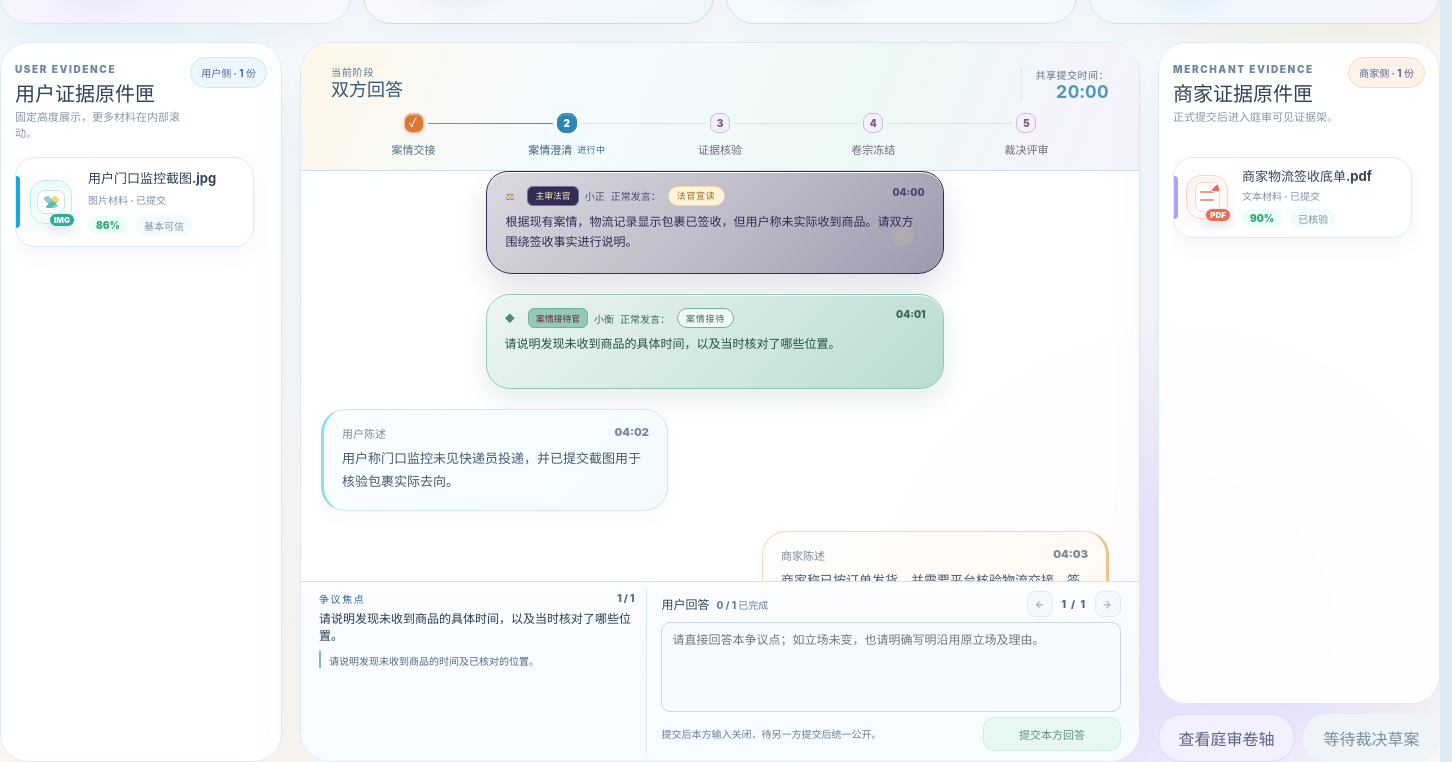
Scenario: HearingCourtView › updates the optimistic submission state by participant identity
(page scrolled)
Type "My complete statement for every shared dispute issue." into the text box with placeholder "请直接回答本争议点；如立场未变，也请明确写明沿用原立场及理由。". click: (891, 667)
box: [662,622,1121,712]
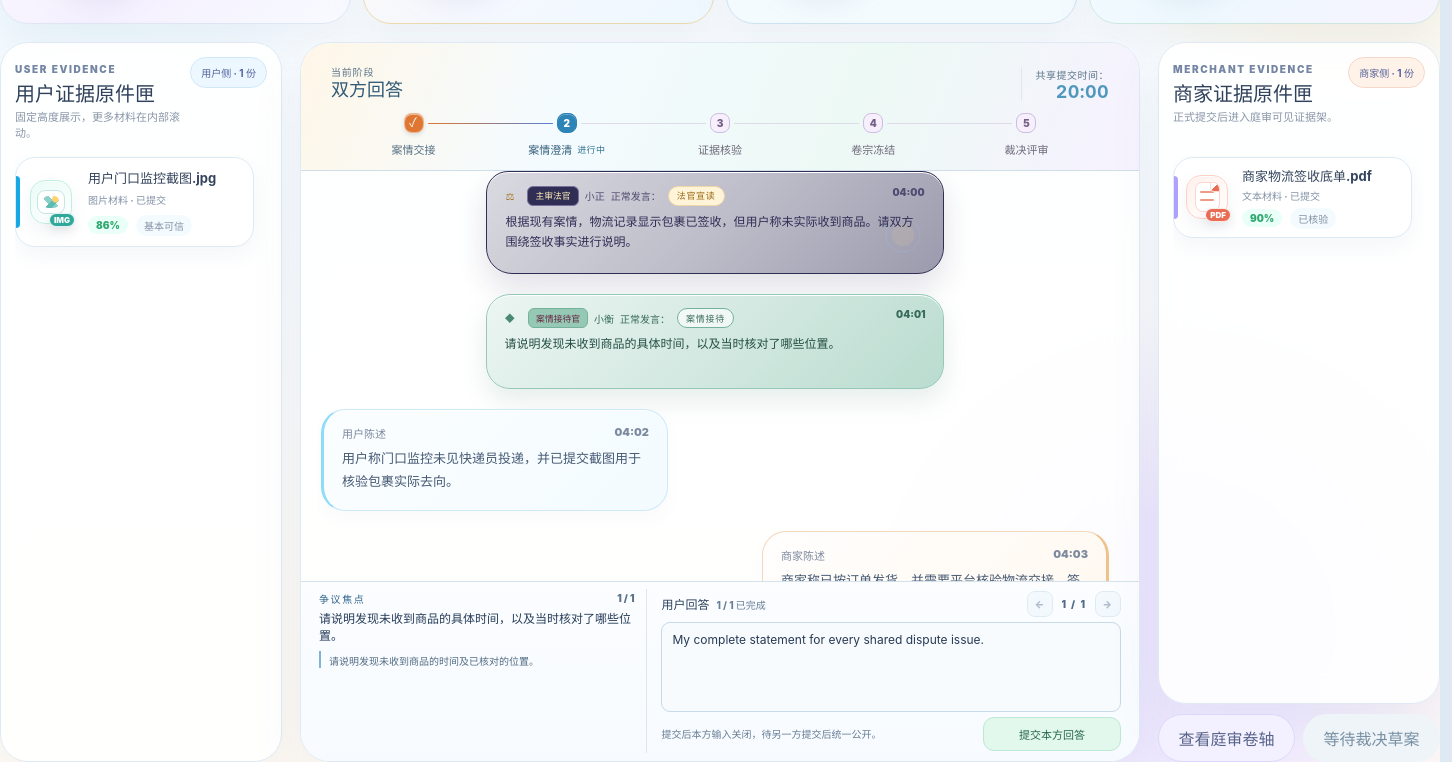
Click the button "提交本方回答". click: (1052, 734)
box: [983,717,1121,751]
(page scrolled)
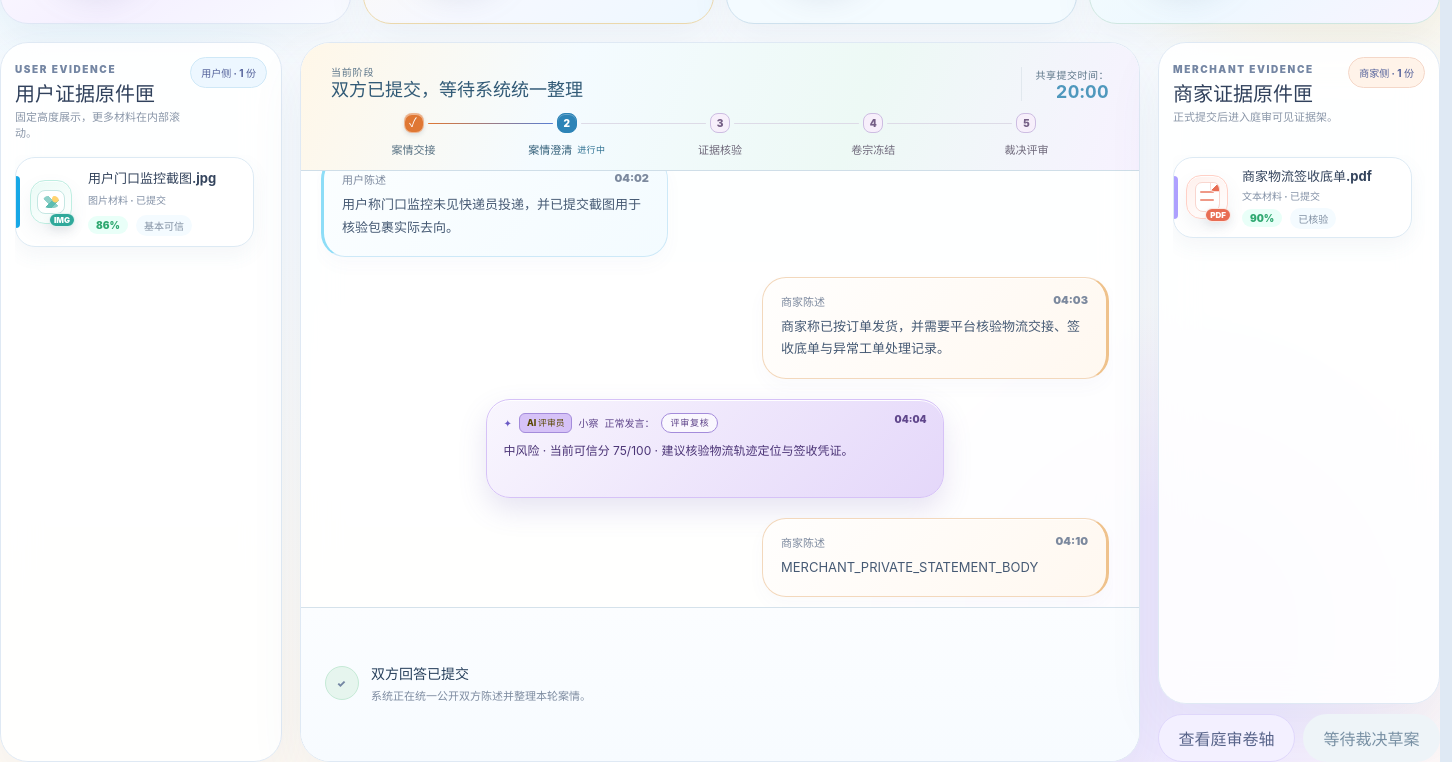
Expected: the element showing "商家陈述 04:10 MERCHANT_PRIVATE_STATEMENT_BODY" is shown, [762,518,1109,597]
Expected: the element that starts with "当前阶段" shows "双方已提交", [331,79,583,100]
